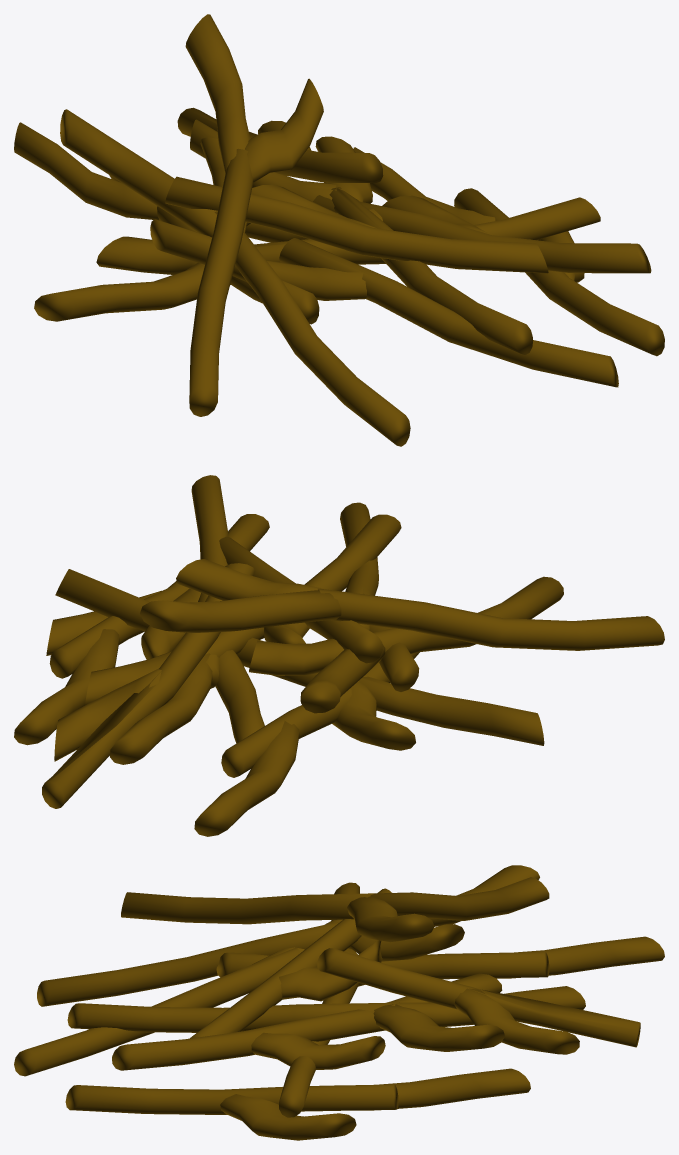
File: woodstick.fbx
The picture shows the model from 3 angles, top to bottom: view 1: azimuth 30°, elevation 25°; view 2: azimuth 150°, elevation 25°; view 3: azimuth 270°, elevation 25°; orthographic projection. The views are drawn at different scales.
Visible parts, largest first — view 1: Group2, Group10, Group9, Group4, Group6, Group8, Group5, Group7, Group3, Group1; view 2: Group2, Group4, Group1, Group8, Group10, Group7, Group3, Group5, Group6, Group9; view 3: Group7, Group2, Group8, Group1, Group5, Group10, Group3, Group9, Group6, Group4.
Part boxes in pixels (box(x1,y1,x2,y2)): Group2: box(185, 14, 323, 416); Group10: box(60, 109, 410, 446); Group9: box(150, 219, 618, 387); Group4: box(34, 197, 600, 321); Group6: box(165, 176, 548, 273); Group8: box(190, 119, 532, 354); Group5: box(245, 195, 651, 273); Group7: box(353, 147, 664, 356); Group3: box(14, 122, 319, 324); Group1: box(177, 107, 383, 182); Group2: box(140, 559, 664, 650); Group4: box(55, 569, 544, 750); Group1: box(42, 563, 255, 808); Group8: box(85, 514, 401, 764); Group10: box(249, 576, 563, 713); Group7: box(14, 514, 269, 745); Group3: box(194, 652, 419, 836); Group5: box(141, 475, 264, 743); Group6: box(219, 536, 382, 663); Group9: box(340, 502, 419, 691); Group7: box(65, 1068, 530, 1140); Group2: box(121, 877, 549, 942); Group8: box(67, 986, 585, 1051); Group1: box(317, 948, 640, 1054); Group5: box(112, 973, 502, 1070); Group10: box(37, 865, 539, 1006); Group3: box(216, 936, 664, 979); Group9: box(14, 919, 342, 1076); Group6: box(190, 888, 391, 1038); Group4: box(279, 882, 364, 1117).
Bounding box in the file's own units: 7.69 × 2.83 × 9.76.
